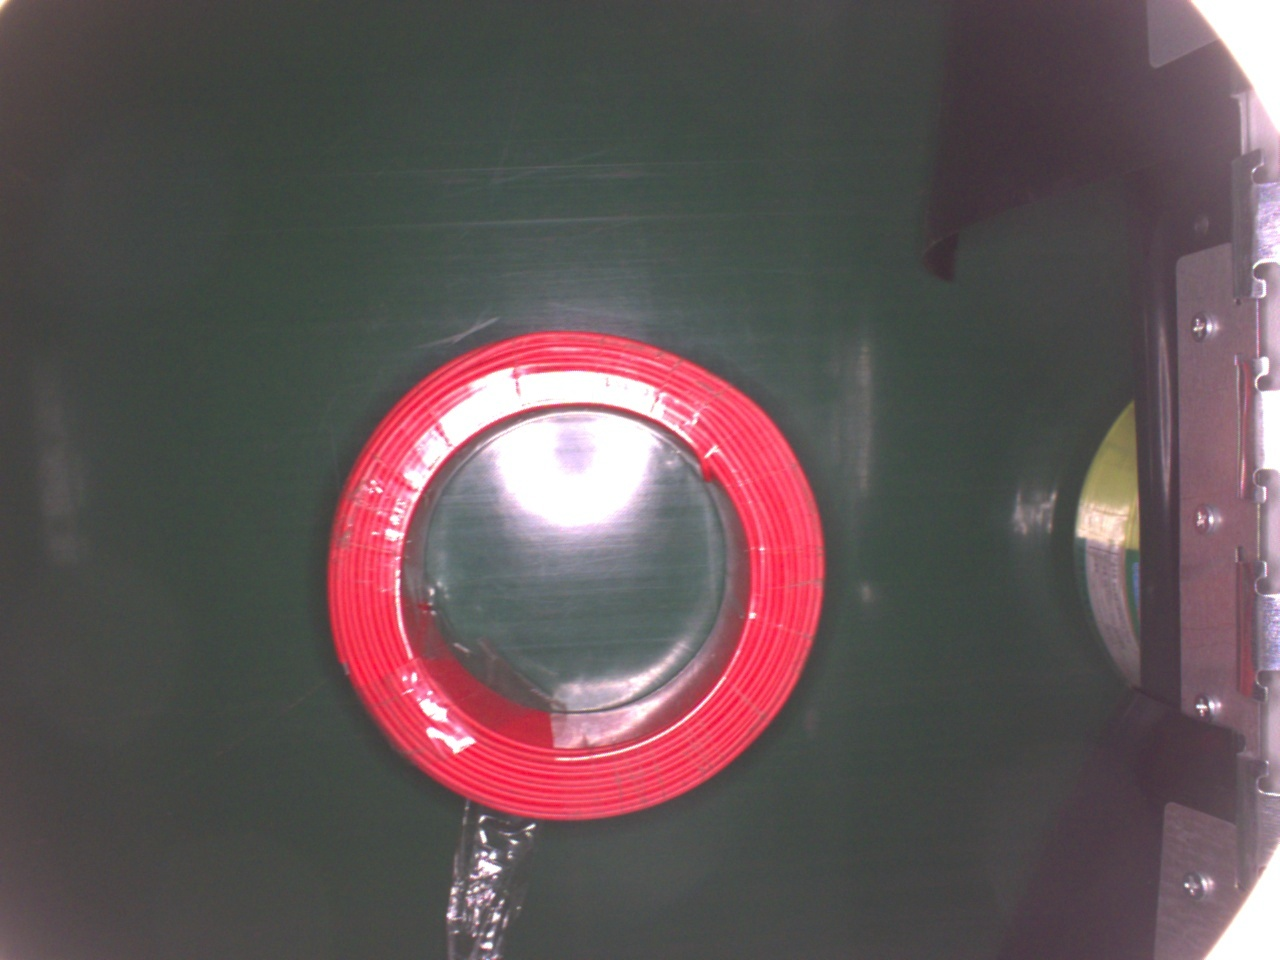red: (314, 321, 824, 825)
